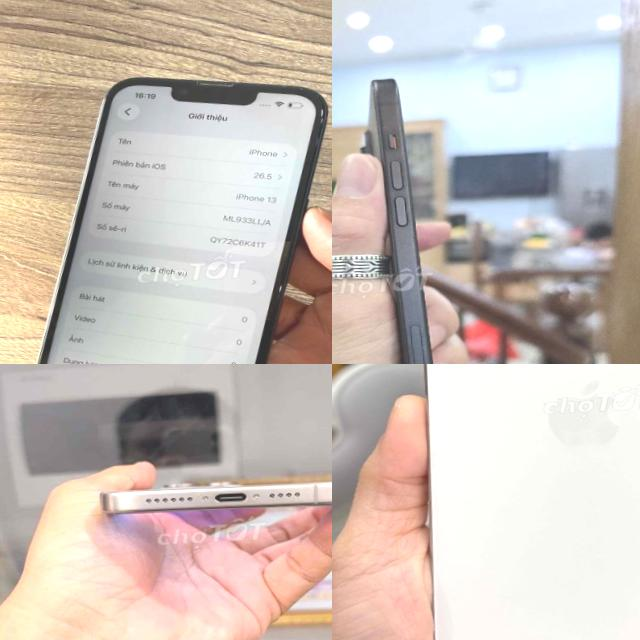gen_12_13: (4, 60, 332, 364)
gen_15: (372, 364, 640, 640), (338, 69, 468, 364), (82, 462, 332, 540)
